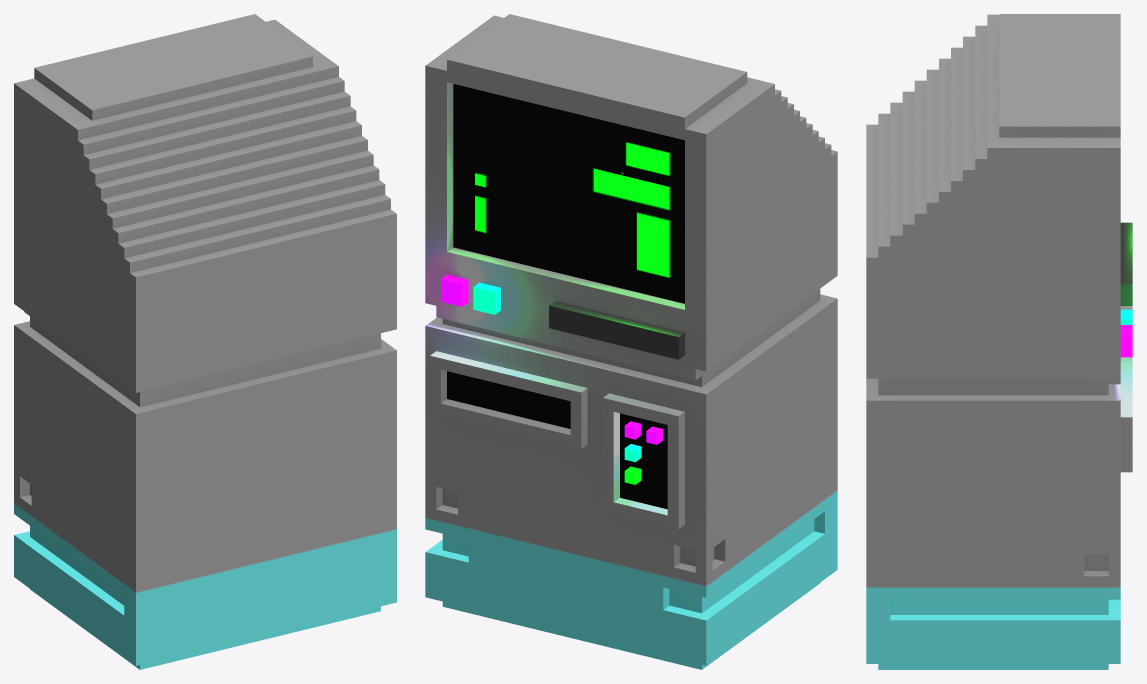
3 views of the same model, side by side, from view 1: azimuth 30°, elevation 25°; view 2: azimuth 150°, elevation 25°; view 3: azimuth 270°, elevation 25° (orthographic). The views are drawn at different scales.
Visible parts, largest first — view 1: Terminal; view 2: Terminal; view 3: Terminal.
Boxes of the visible parts, left/top/right/bottom form: Terminal: left=14, top=14, right=396, bottom=669; Terminal: left=425, top=14, right=837, bottom=669; Terminal: left=866, top=14, right=1132, bottom=669.
Size of the model in its own units: 2.6 by 4.9 by 2.2.
4 materials, 1 textured.
